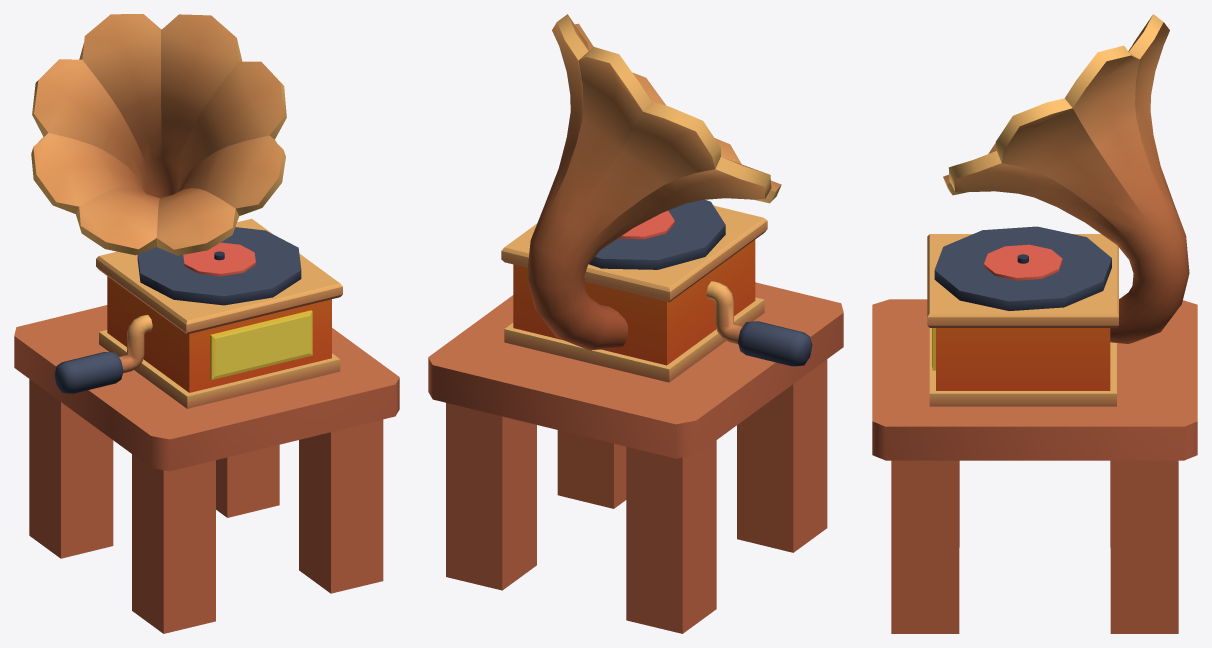
Rendered from Gramophone.fbx.
The picture shows the model from 3 angles, left to right: view 1: azimuth 30°, elevation 25°; view 2: azimuth 150°, elevation 25°; view 3: azimuth 270°, elevation 25°; orthographic projection. The views are drawn at different scales.
Parts seen in each view (by area): view 1: Gramophone; view 2: Gramophone; view 3: Gramophone.
Part boxes in pixels (box(x1,y1,x2,y2)): Gramophone: box(14, 14, 399, 633); Gramophone: box(428, 14, 843, 633); Gramophone: box(872, 14, 1197, 633).
Bounding box in the file's own units: 0.7176 × 1.28 × 0.6923.
